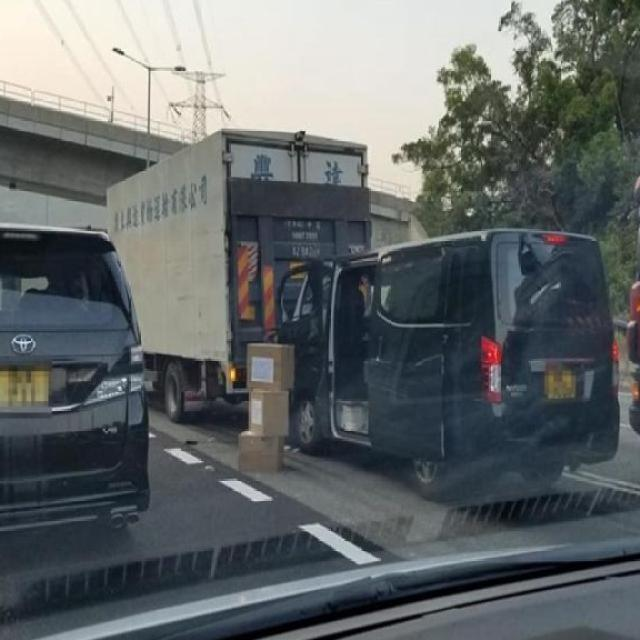accident: (219, 201, 475, 473)
